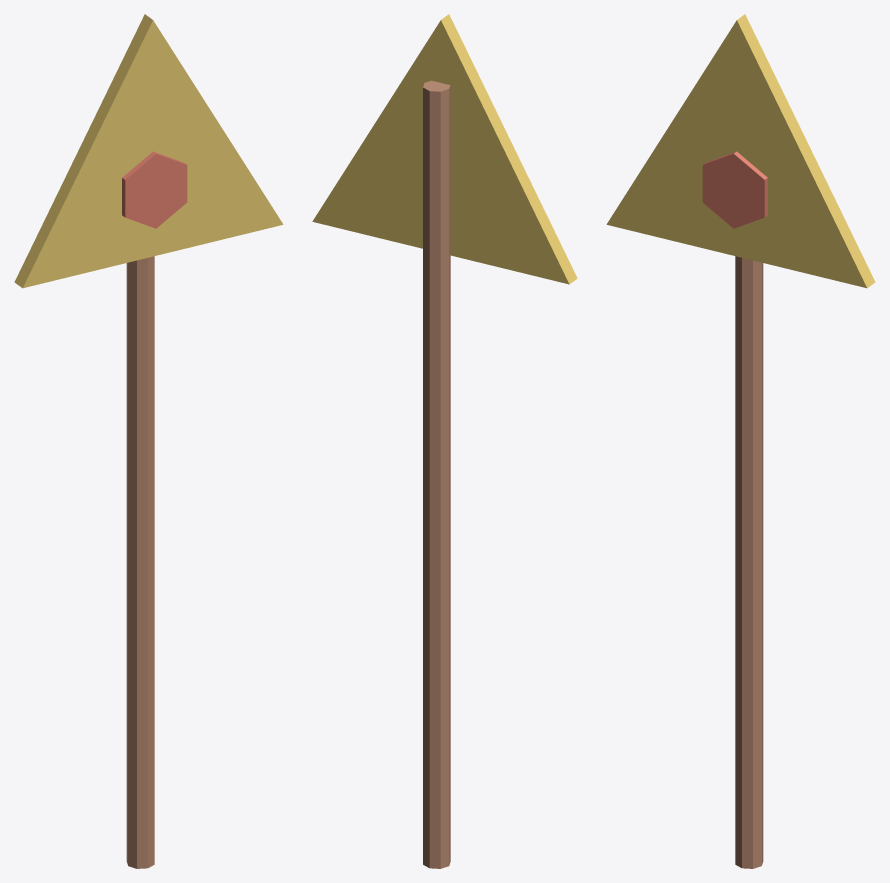
The model's file is SM_MonumentRadSign.fbx.
3 renders of one model, left to right at view 1: azimuth 30°, elevation 25°; view 2: azimuth 150°, elevation 25°; view 3: azimuth 330°, elevation 25°, orthographic.
Parts seen in each view (by area): view 1: SM_MonumentRadSign; view 2: SM_MonumentRadSign; view 3: SM_MonumentRadSign.
Part boxes in pixels (box(x1,y1,x2,y2)): SM_MonumentRadSign: box(14, 14, 283, 868); SM_MonumentRadSign: box(312, 14, 577, 868); SM_MonumentRadSign: box(606, 14, 875, 868).
Size of the model in its own units: 7275 by 1100 by 22700.
